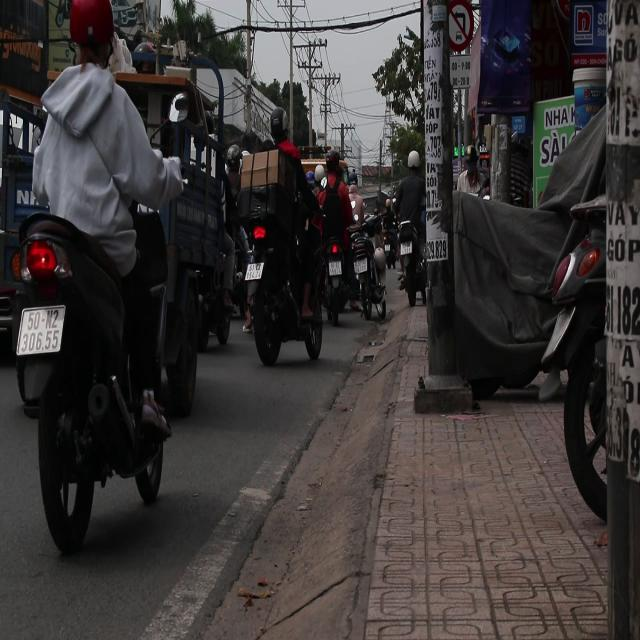motorbike: (7, 201, 174, 545), (236, 159, 326, 364), (346, 208, 392, 323)
